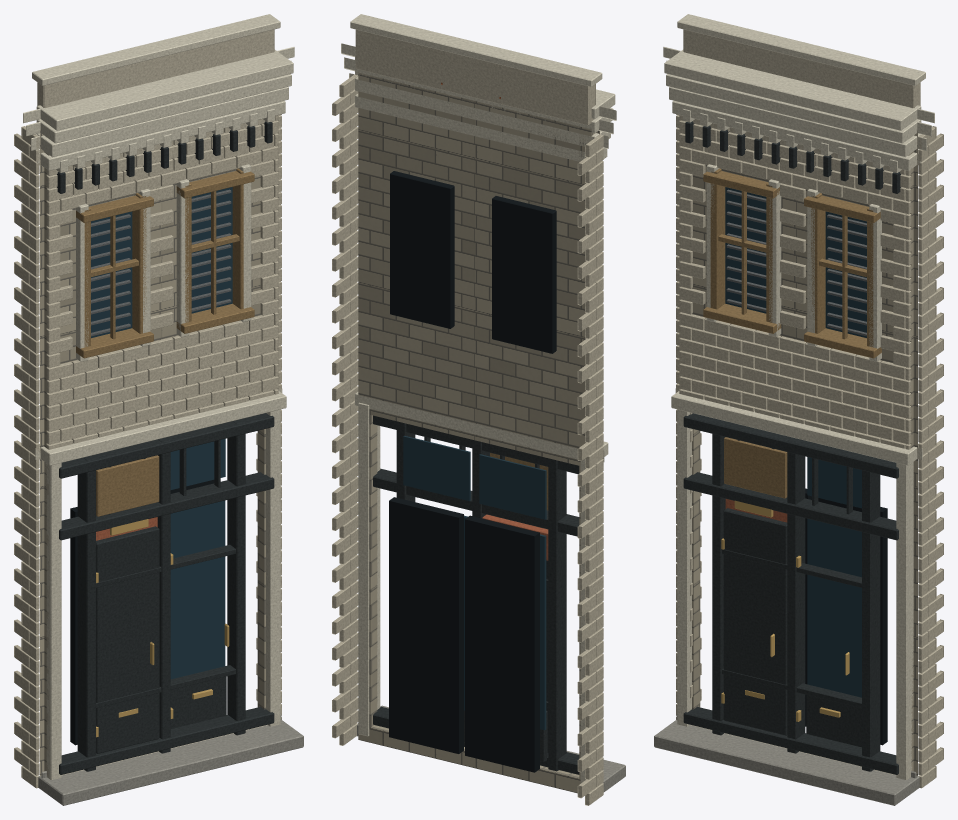
Rendered from BUSS10_lod0.glb.
3 renders of one model, left to right at view 1: azimuth 30°, elevation 25°; view 2: azimuth 150°, elevation 25°; view 3: azimuth 330°, elevation 25°, orthographic.
Parts seen in each view (by area): view 1: BUSS10_FRONT_LOD0; view 2: BUSS10_FRONT_LOD0; view 3: BUSS10_FRONT_LOD0.
Part boxes in pixels (x1,y1,x2,y2): BUSS10_FRONT_LOD0: [14, 14, 303, 805]; BUSS10_FRONT_LOD0: [332, 14, 625, 805]; BUSS10_FRONT_LOD0: [654, 14, 943, 805].
Size of the model in its own units: 3.78 by 9.44 by 1.12.
14 materials, 11 textured.
